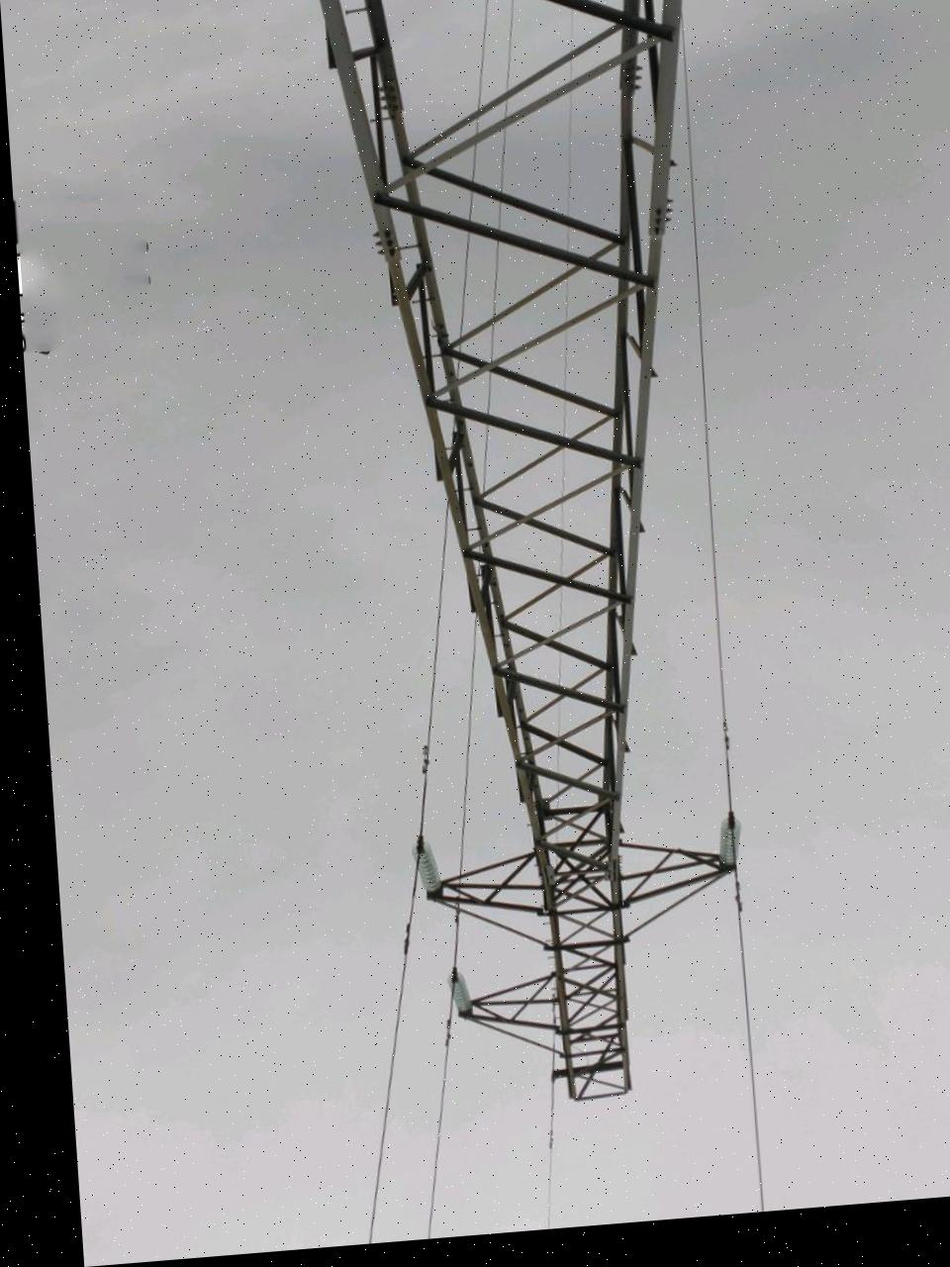tower: (282, 0, 807, 1168)
